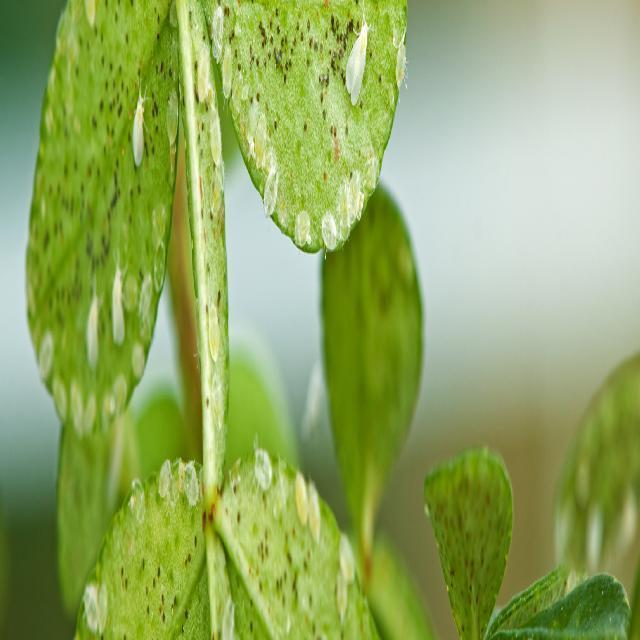Whiteflies: (119, 58, 156, 196), (337, 1, 377, 121), (103, 251, 131, 360), (83, 274, 107, 394)
